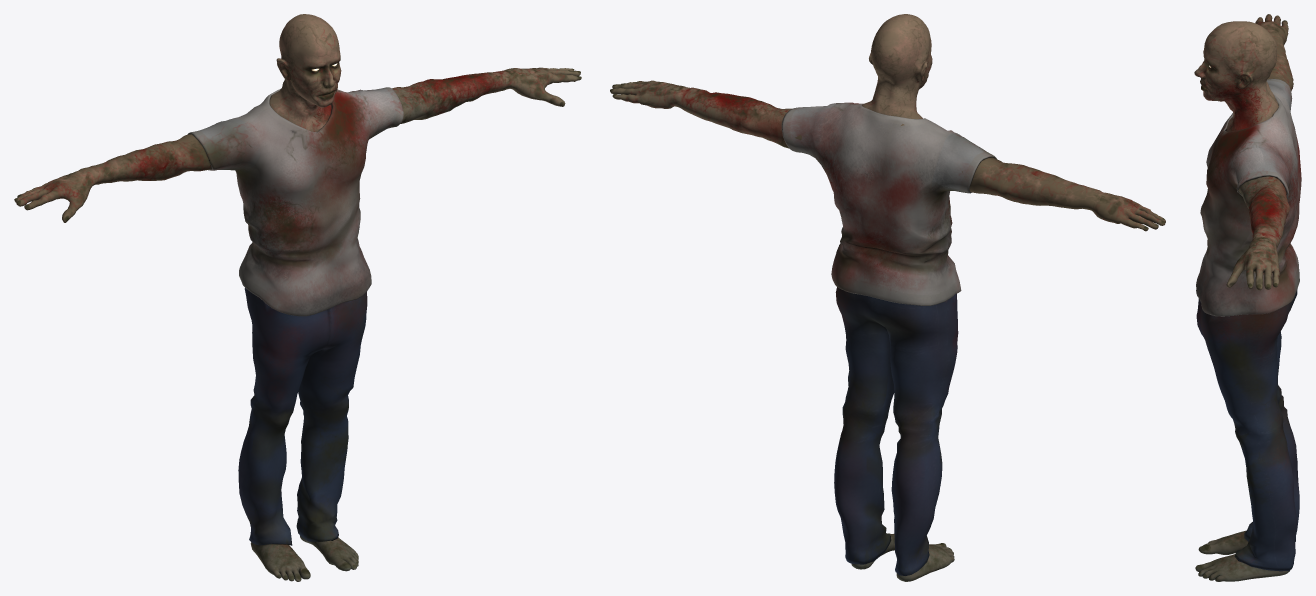
Rendered from ZombieMale1_Coated1B.FBX.
The picture shows the model from 3 angles, left to right: view 1: azimuth 30°, elevation 25°; view 2: azimuth 150°, elevation 25°; view 3: azimuth 270°, elevation 25°; orthographic projection.
Visible parts, largest first — view 1: Tops, Bottoms, Body; view 2: Tops, Bottoms, Body; view 3: Bottoms, Tops, Body.
Boxes of the visible parts, x1,y1,x2,y2 form: Tops: (187, 87, 403, 316); Bottoms: (238, 288, 367, 545); Body: (14, 14, 581, 581); Tops: (781, 102, 996, 305); Bottoms: (834, 287, 958, 575); Body: (610, 14, 1165, 581); Bottoms: (1196, 289, 1299, 571); Tops: (1196, 78, 1301, 316); Body: (1194, 14, 1293, 581).
Bounding box in the file's own units: 186 × 173 × 31.04.
Materials: 3 (3 with a texture image).
